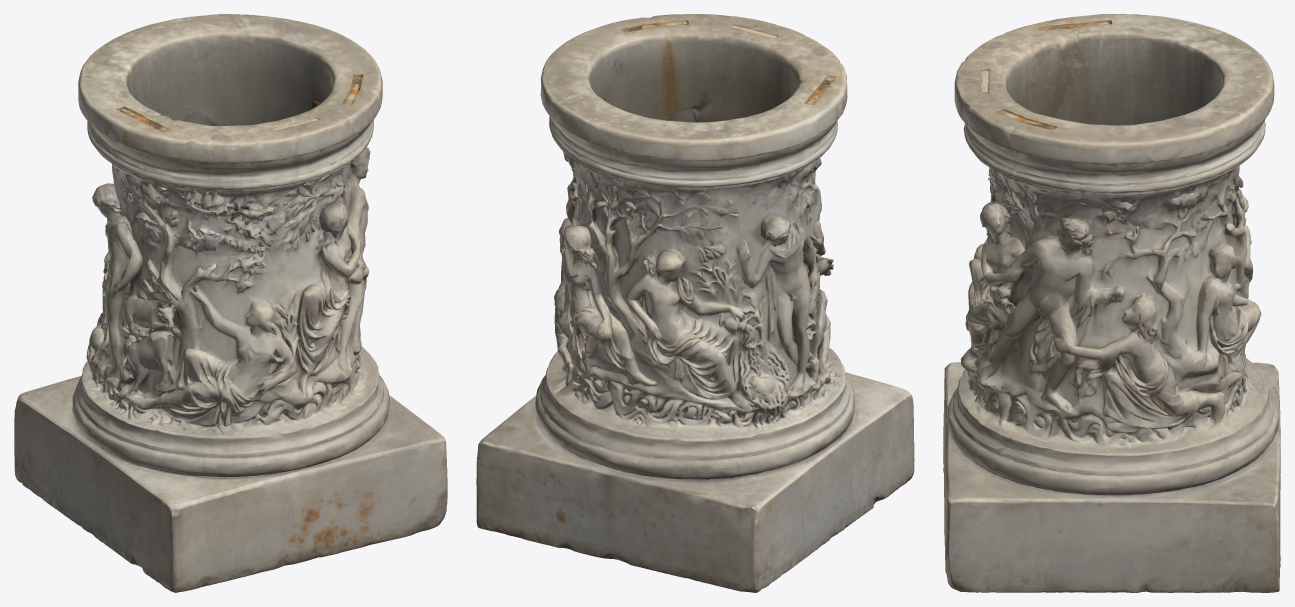
File: roman-wellhead.glb
3 renders of one model, left to right at view 1: azimuth 30°, elevation 25°; view 2: azimuth 150°, elevation 25°; view 3: azimuth 270°, elevation 25°, orthographic. The views are drawn at different scales.
Visible parts, largest first — view 1: default_n3d; view 2: default_n3d; view 3: default_n3d.
Boxes of the visible parts, bbox=[...] form: default_n3d: bbox=[14, 14, 447, 592]; default_n3d: bbox=[476, 14, 914, 592]; default_n3d: bbox=[943, 14, 1280, 592].
Bounding box in the file's own units: 0.7084 × 1.03 × 0.7082.
Materials: 1 (1 with a texture image).
